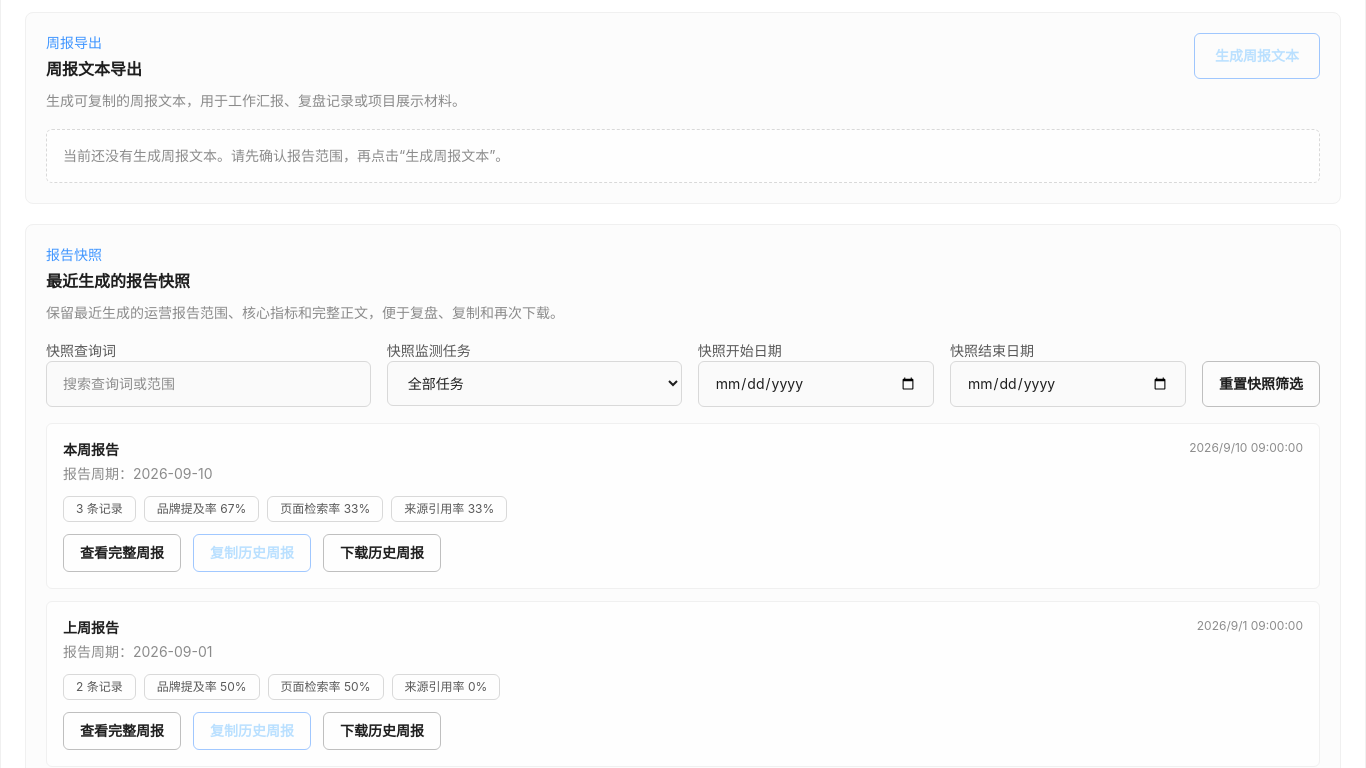
Scenario: 生成式运营报告 › 按日期范围筛选历史报告快照
(page scrolled)
Type "2026-09-05" into the date field labelled "快照开始日期" at (816, 384), box [698,361,934,407]
(page scrolled)
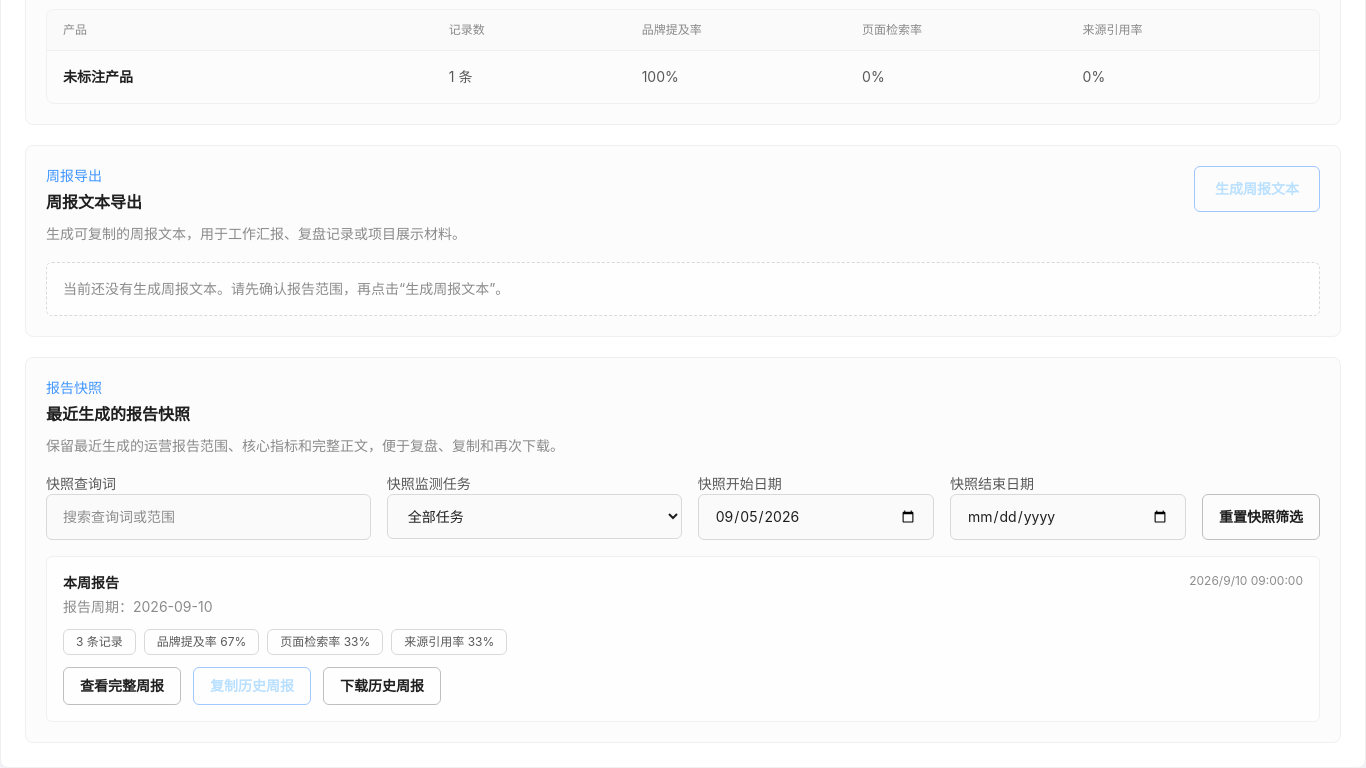
Check: the text "本周报告" is shown, box [63,574,119,591]
Check: the text "上周报告" is gone
